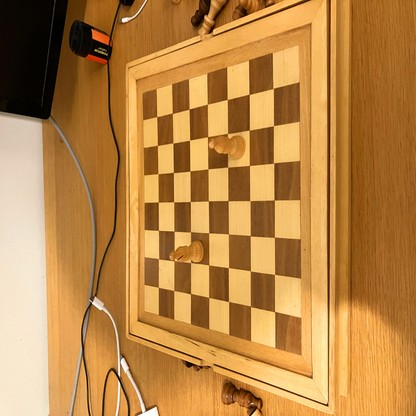bishop_black: (221, 382, 263, 410)
bishop_white: (169, 240, 204, 264), (209, 136, 246, 158)
